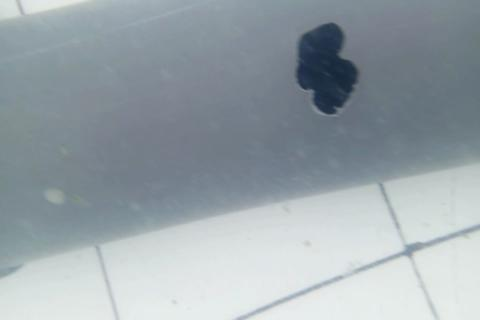kebocoran: (294, 19, 360, 118)
